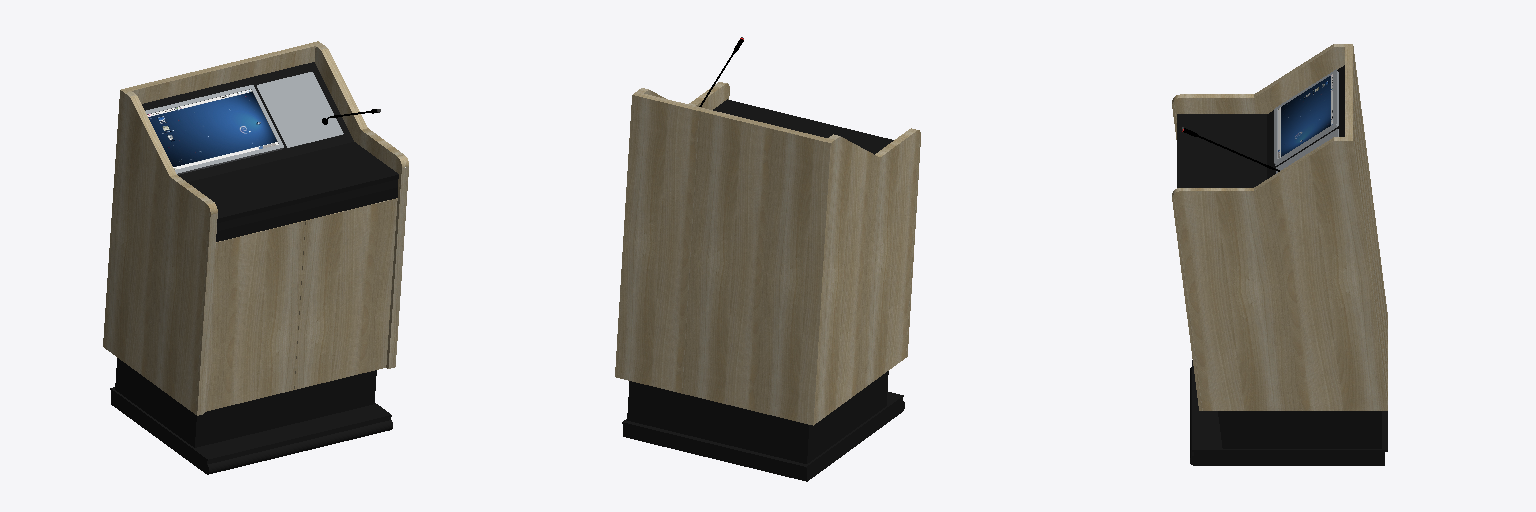
The picture shows the model from 3 angles: view 1: azimuth 30°, elevation 25°; view 2: azimuth 150°, elevation 25°; view 3: azimuth 270°, elevation 25°; orthographic projection.
Parts seen in each view (by area): view 1: Mesh5 OuterShell Group1 Model, Mesh6 Component_2_1 Group1 Model, Mesh8 Component_2_2 Group1 Model, Mesh9 Difference OuterShell_4_1 Group1 Model; view 2: Mesh5 OuterShell Group1 Model, Mesh9 Difference OuterShell_4_1 Group1 Model; view 3: Mesh5 OuterShell Group1 Model, Mesh9 Difference OuterShell_4_1 Group1 Model.
Part boxes in pixels (x1,y1,x2,y2): Mesh5 OuterShell Group1 Model: (103,41,408,447); Mesh6 Component_2_1 Group1 Model: (294,198,397,389); Mesh8 Component_2_2 Group1 Model: (205,221,305,411); Mesh9 Difference OuterShell_4_1 Group1 Model: (110,387,392,474); Mesh5 OuterShell Group1 Model: (615,82,920,463); Mesh9 Difference OuterShell_4_1 Group1 Model: (622,392,904,481); Mesh5 OuterShell Group1 Model: (1172,44,1387,448); Mesh9 Difference OuterShell_4_1 Group1 Model: (1190,360,1387,465).
Size of the model in its own units: 0.82 by 1.3 by 0.7713.
Materials: 9 (2 with a texture image).